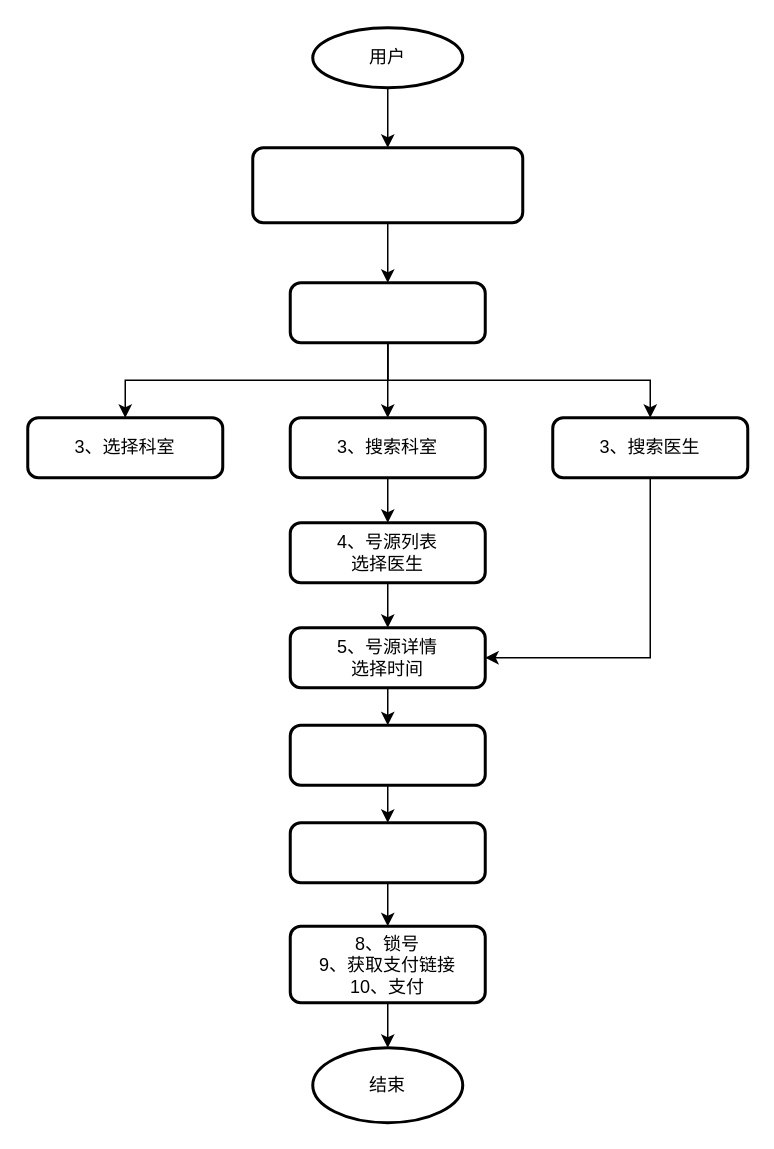
Image size: 774x1149. Some labels were removed from this diagram. Here are the shapes that lost their labels. From the top down, the box of each, then its label:
(250, 146, 524, 224): 1、授权 （openid换取token）
(288, 280, 486, 344): 2、选择院区
(288, 723, 486, 786): 6、选就诊人
(288, 820, 486, 884): 7、图形验证码
